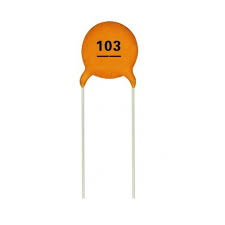ceramic capacitor: (54, 12, 165, 152)
